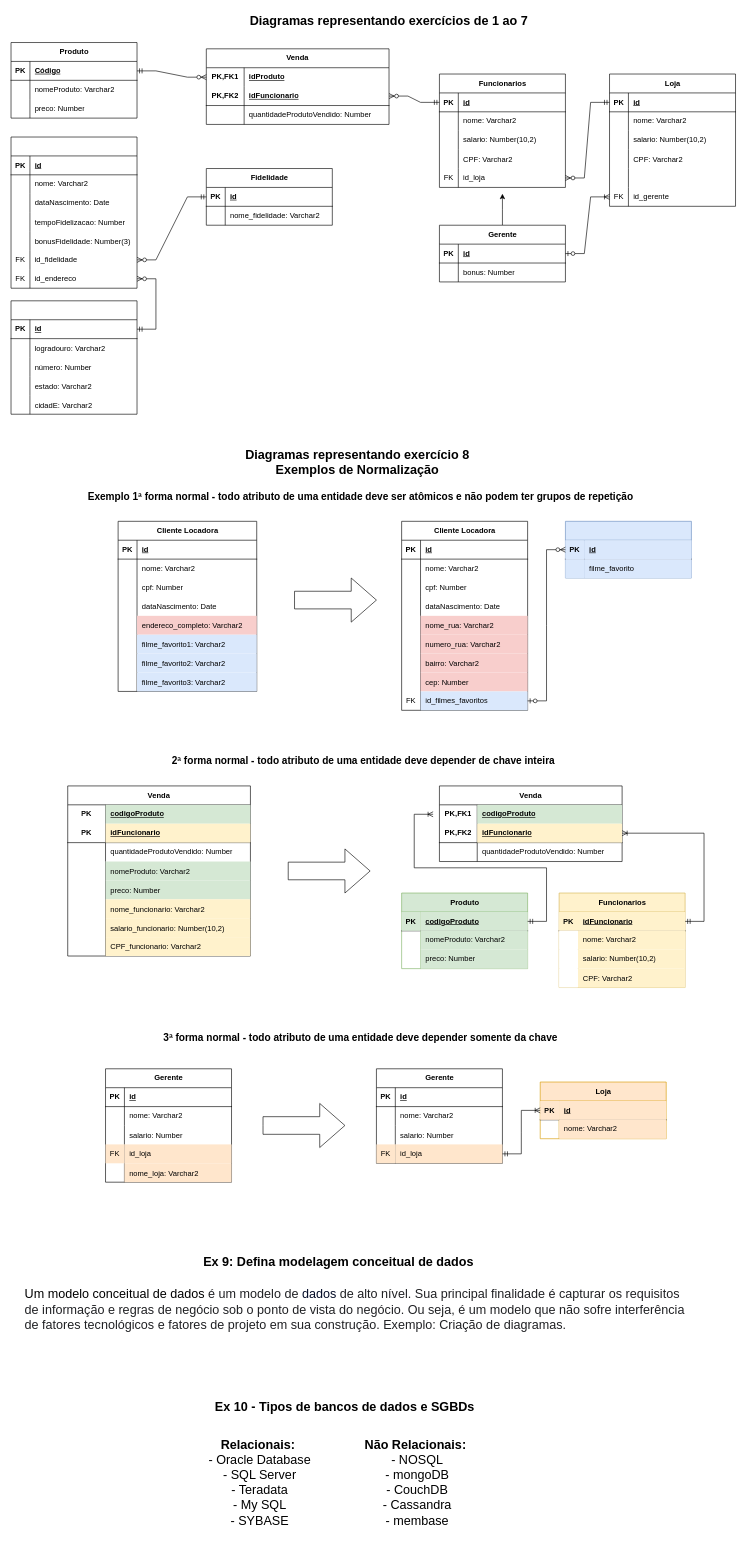
This 747x1552 diagram has some shape labels left out. Here are the shapes that lost their labels. From the top down, the box of each, then its label:
(10, 136, 137, 288): Clientes Fidelizados
(10, 300, 137, 414): Endereco
(565, 521, 691, 578): Filmes Favoritos
